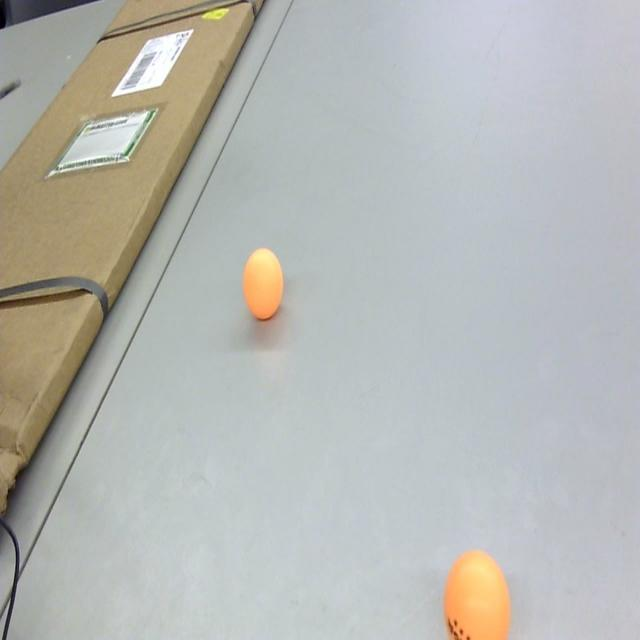ball: (443, 546, 511, 640), (242, 243, 285, 322)
